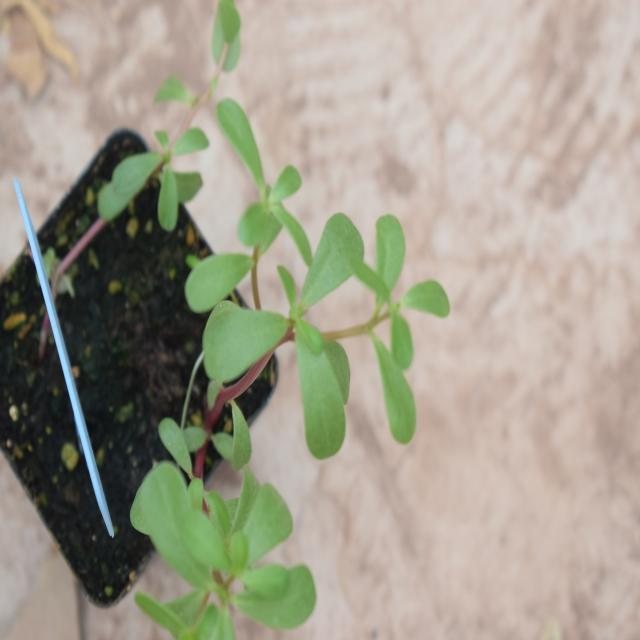purslane: (123, 59, 453, 517)
